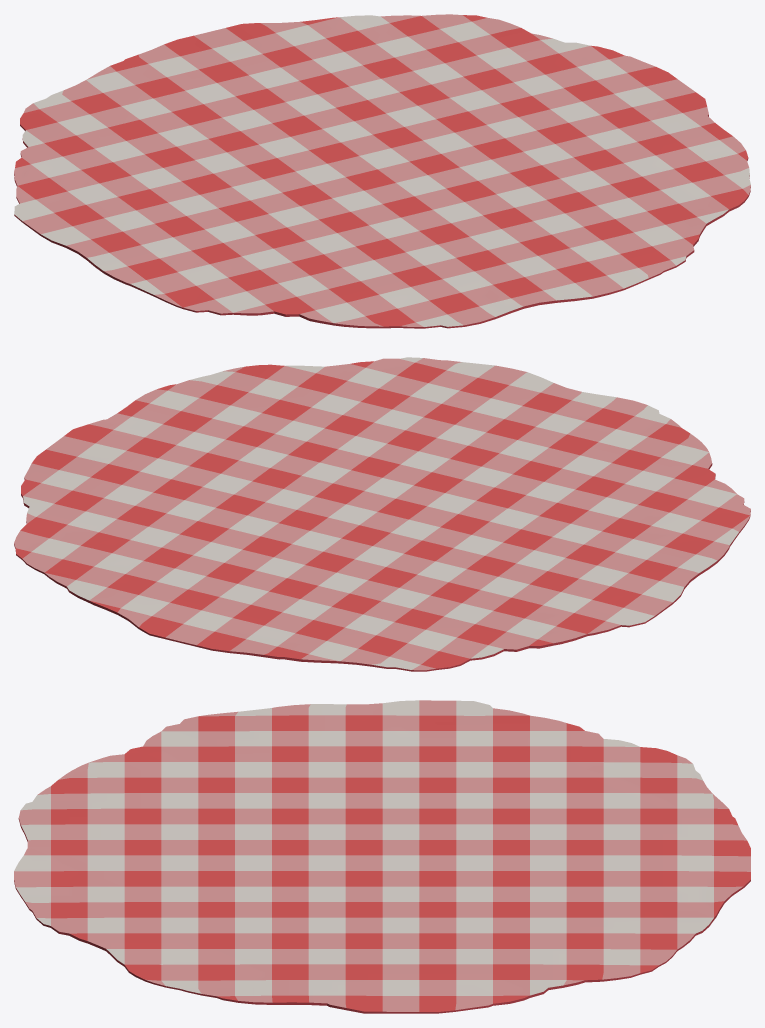
Rendered from cloth_classic.glb.
3 renders of one model, top to bottom at view 1: azimuth 30°, elevation 25°; view 2: azimuth 150°, elevation 25°; view 3: azimuth 270°, elevation 25°, orthographic.
Parts seen in each view (by area): view 1: body; view 2: body; view 3: body.
Part boxes in pixels (box(x1,y1,x2,y2)): body: box(14, 14, 750, 328); body: box(14, 357, 750, 671); body: box(14, 700, 750, 1013).
Size of the model in its own units: 3 by 0.011 by 3.
